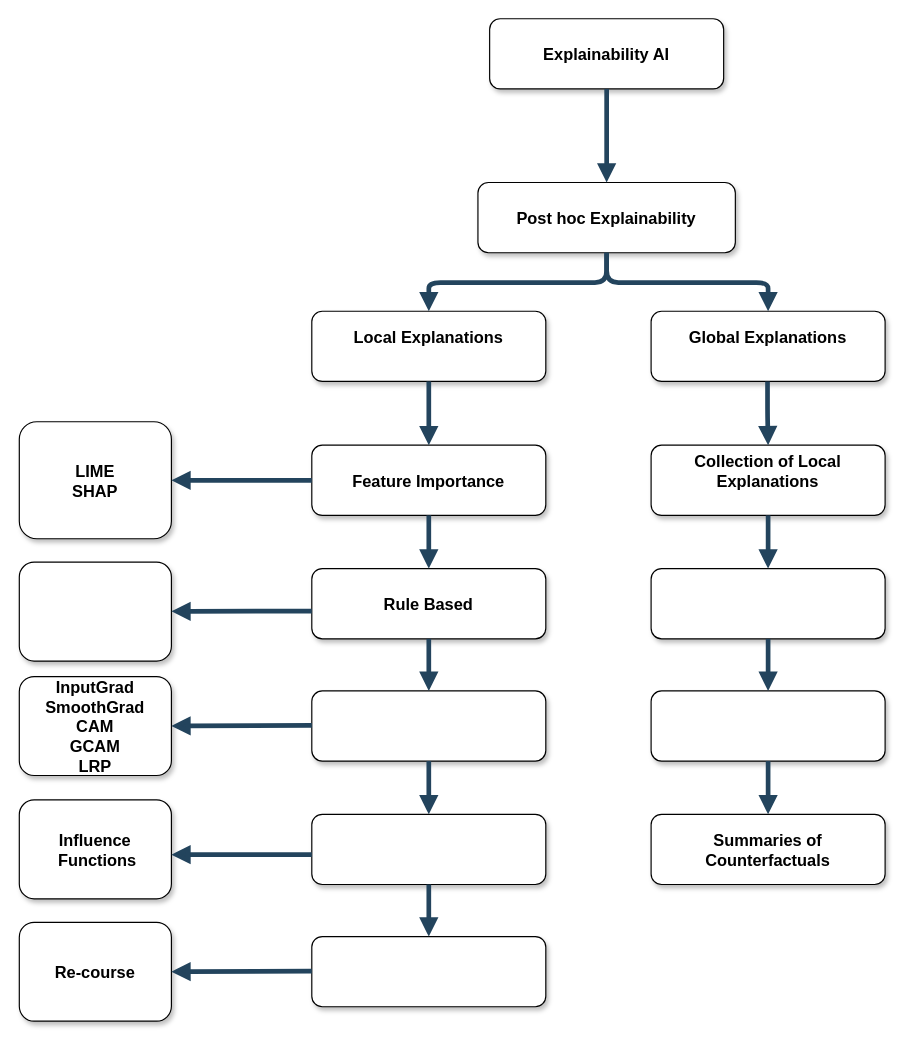
Some shapes in this 904 by 1040 pixel diagram are drawn without their labels. The shapes that lost their labels are listed below. From the top down, each one's centre as x and y in pixels, then its label:
pixel 95 612: Anchors: Sufficient Conditions
pixel 768 605: Representation Based
pixel 429 727: Saliency Maps
pixel 768 727: Model Distillation
pixel 429 850: Prototypes/Example Based
pixel 429 973: Counterfactuals
